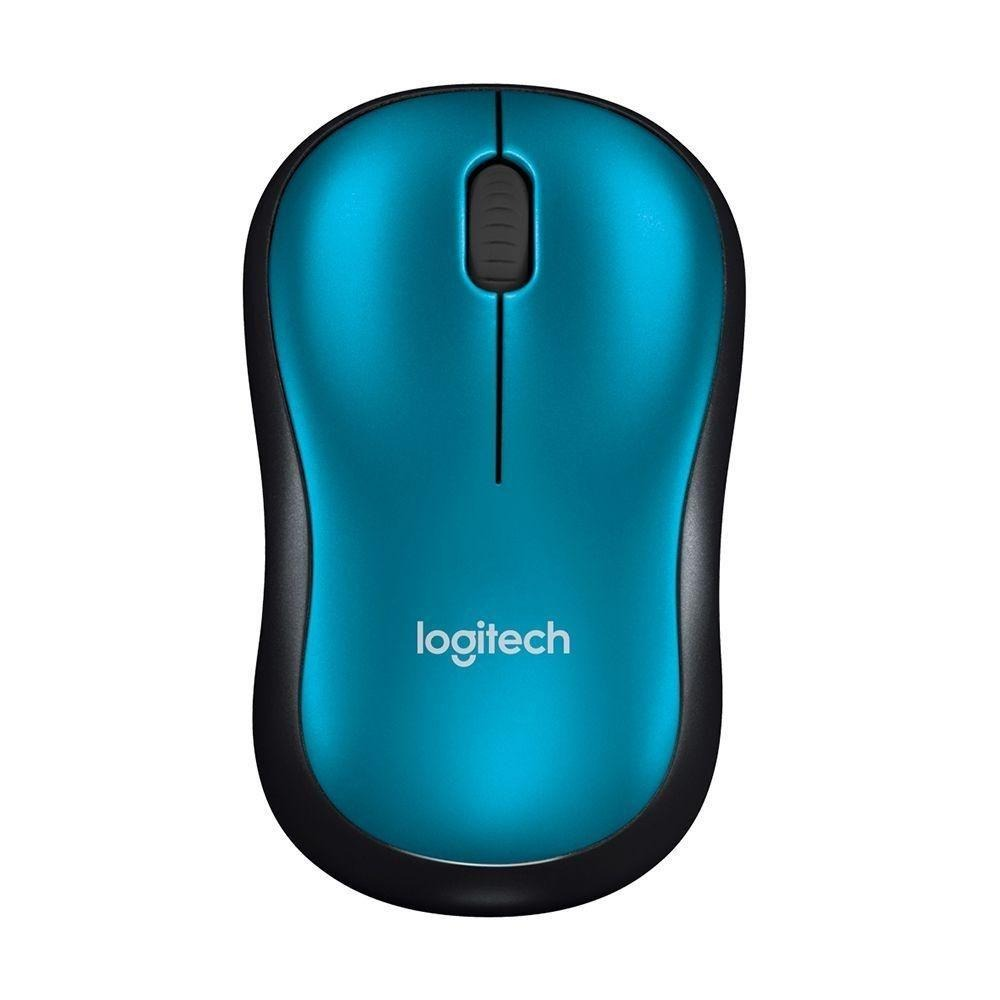mouse: (186, 51, 754, 913)
